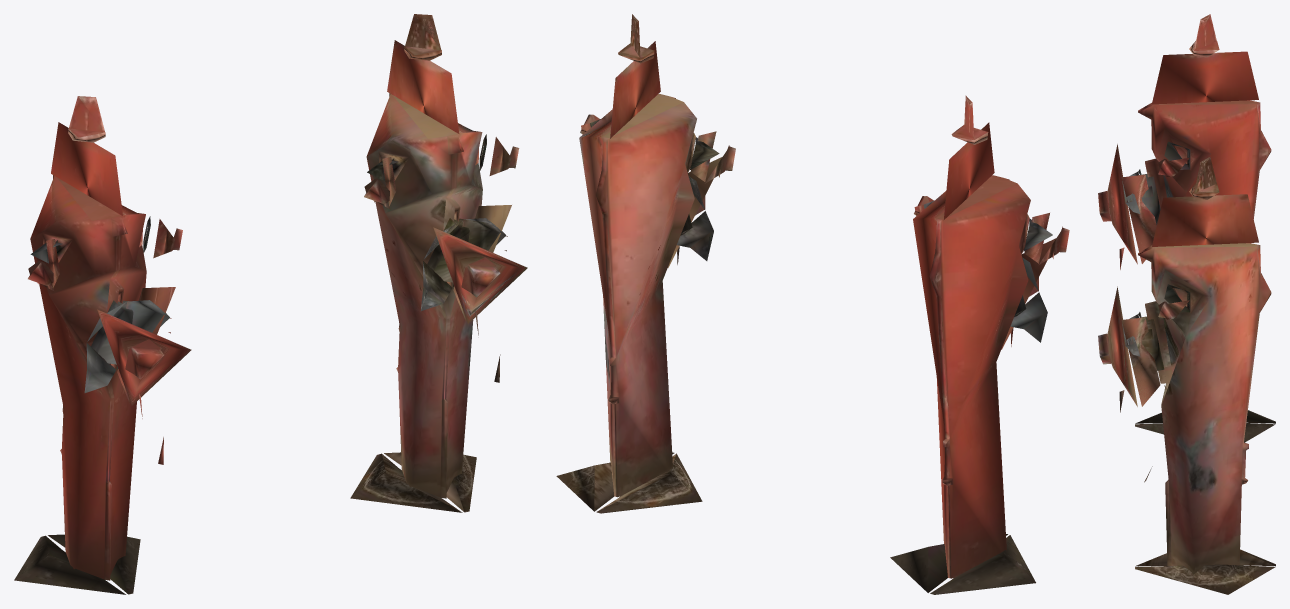
File: fire_hydrant.glb
The picture shows the model from 3 angles, left to right: view 1: azimuth 30°, elevation 25°; view 2: azimuth 150°, elevation 25°; view 3: azimuth 270°, elevation 25°; orthographic projection. The views are drawn at different scales.
Parts seen in each view (by area): view 1: fire_hydrant, fire_hydrant_aged; view 2: fire_hydrant_aged, fire_hydrant; view 3: fire_hydrant_aged, fire_hydrant.
Part boxes in pixels (<box>): fire_hydrant: <box>14,96,191,594</box>; fire_hydrant_aged: <box>350,14,527,512</box>; fire_hydrant_aged: <box>556,14,735,513</box>; fire_hydrant: <box>890,95,1069,594</box>; fire_hydrant_aged: <box>1098,157,1275,594</box>; fire_hydrant: <box>1098,14,1275,442</box>.
Size of the model in its own units: 0.8728 by 0.7992 by 0.3163.
2 materials, 2 textured.
